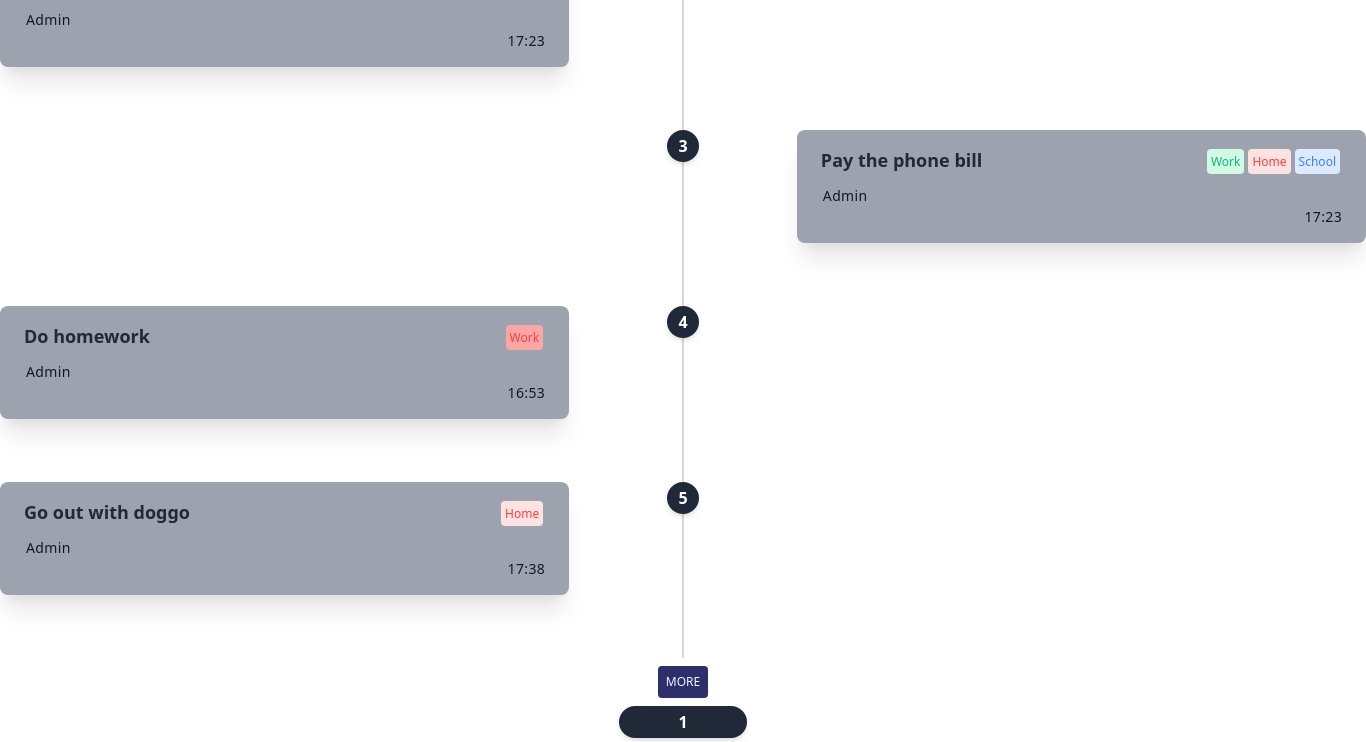
Test: Activity › Folding › Fold activities for clicked block
The image size is (1366, 742).
(page scrolled)
Click the element with test id "bullet": [683, 722] box [619,706,747,738]
(page scrolled)
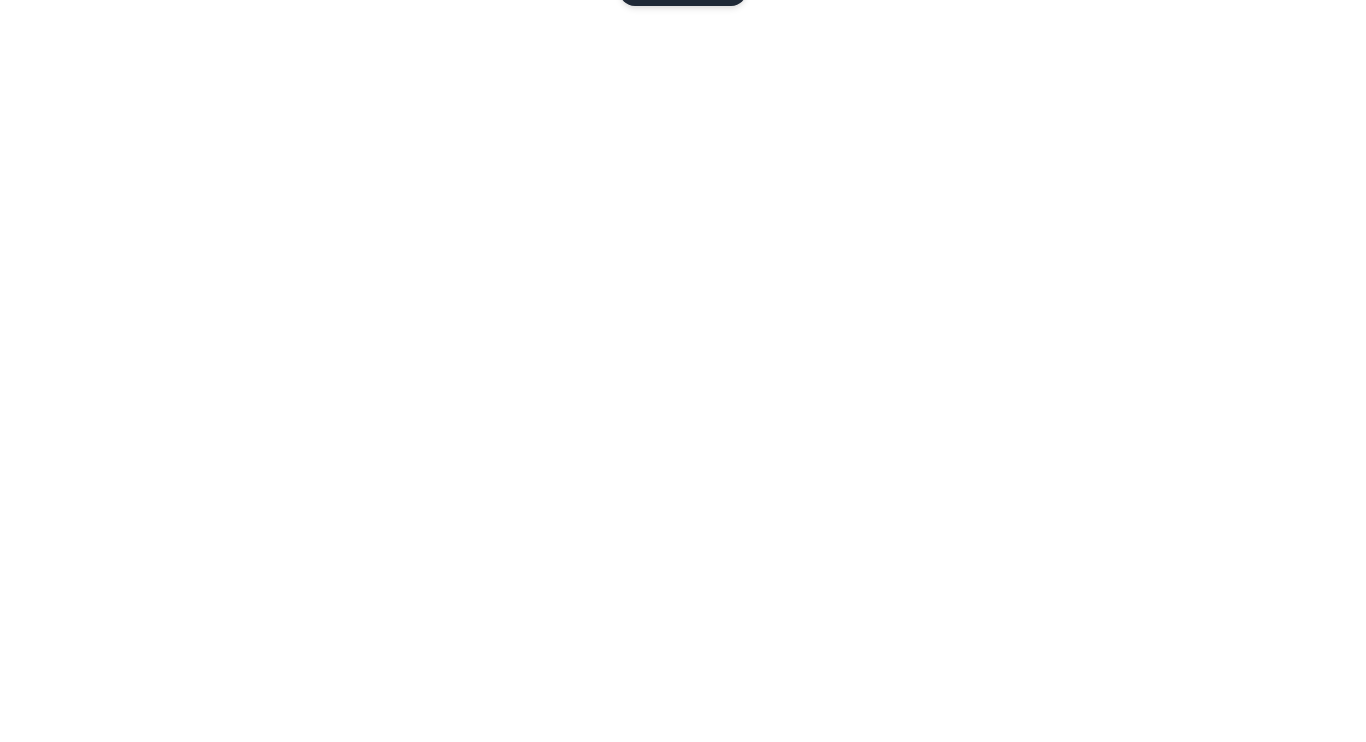
Result: no elements with test id "activity-wrapper" are shown
